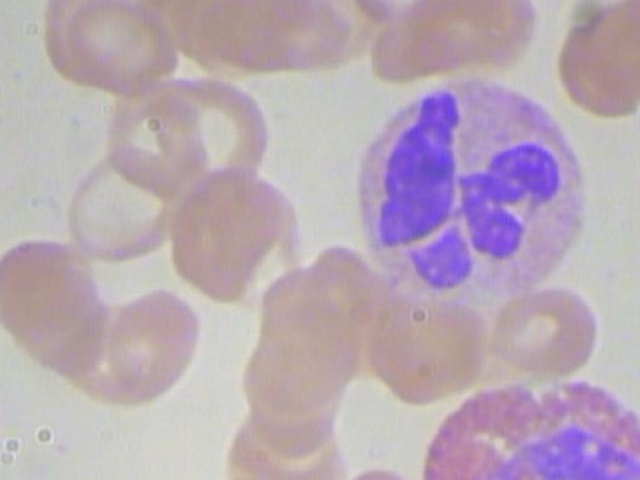RBC: (154, 156, 298, 312), (357, 287, 497, 408), (56, 140, 190, 266), (92, 281, 215, 403), (484, 278, 614, 379), (63, 0, 190, 94), (336, 0, 490, 38)
WBC: (337, 69, 598, 304), (408, 381, 640, 480)
